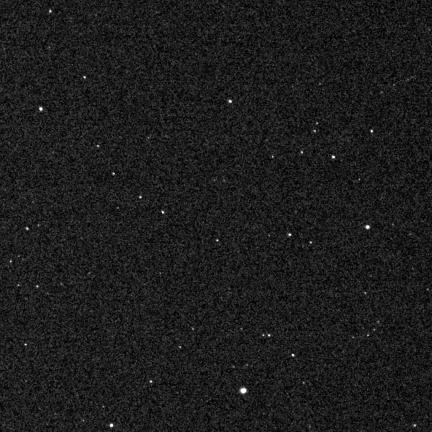blob: (239, 387, 247, 394), (365, 225, 370, 229), (332, 155, 336, 160), (39, 107, 43, 111), (370, 130, 374, 133), (216, 239, 219, 243), (97, 145, 100, 149), (289, 233, 292, 237), (140, 196, 143, 200), (150, 380, 153, 384), (300, 151, 304, 154), (84, 76, 87, 80), (162, 211, 165, 215), (228, 100, 232, 103), (25, 227, 29, 230), (49, 10, 52, 14), (292, 354, 295, 358), (314, 130, 317, 133), (316, 122, 319, 125), (112, 172, 115, 175), (110, 424, 113, 427)
